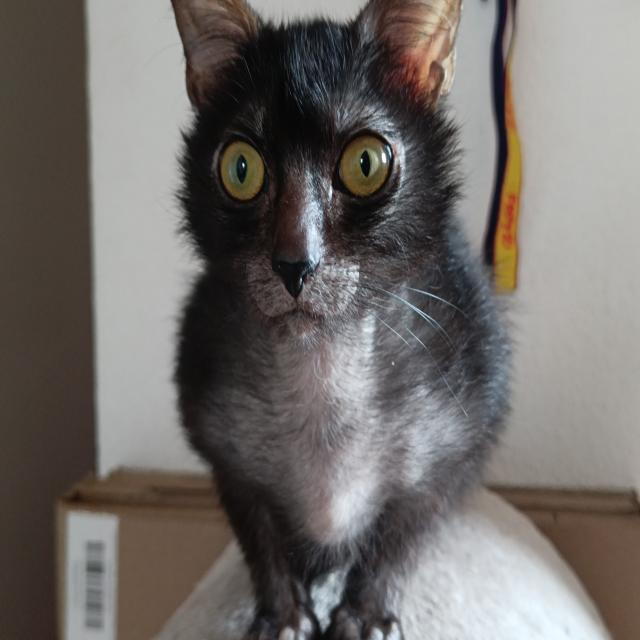Lykoi: (159, 0, 521, 640)
